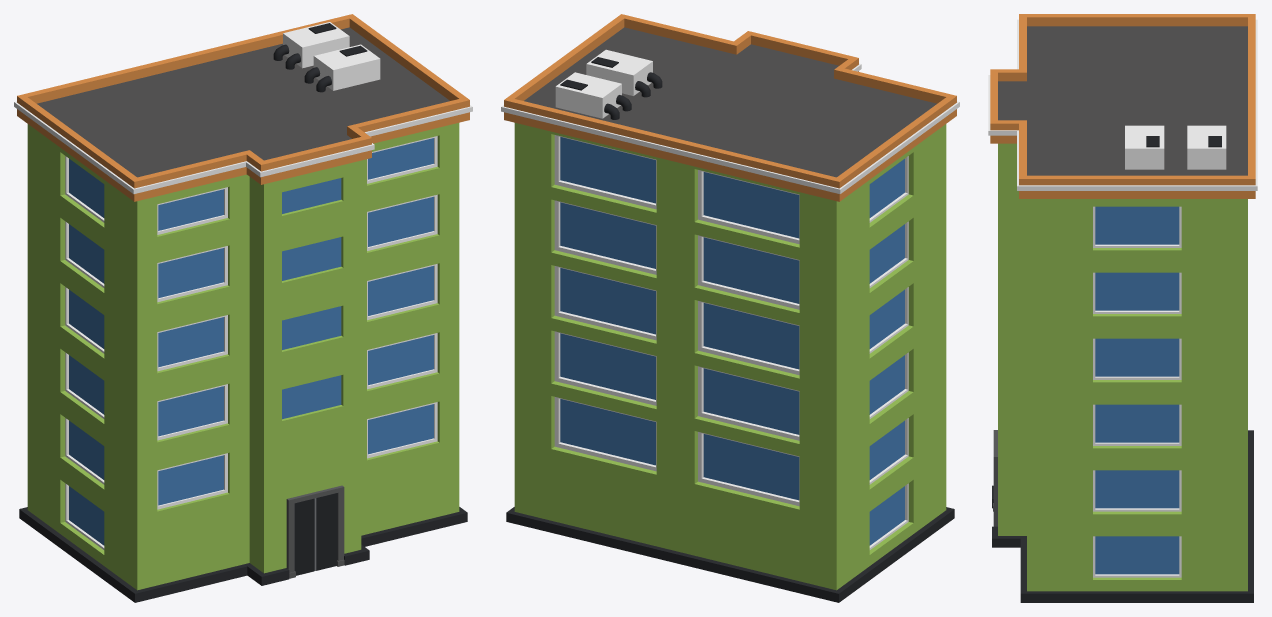
The model's file is Building_4.fbx.
3 views of the same model, side by side, from view 1: azimuth 30°, elevation 25°; view 2: azimuth 150°, elevation 25°; view 3: azimuth 270°, elevation 25° (orthographic).
Parts seen in each view (by area): view 1: Building_4; view 2: Building_4; view 3: Building_4.
Boxes of the visible parts, x1=… form: Building_4: x1=14, y1=14, x2=472, y2=602; Building_4: x1=501, y1=14, x2=959, y2=602; Building_4: x1=988, y1=14, x2=1257, y2=602.
Size of the model in its own units: 1367 by 1676 by 935.
